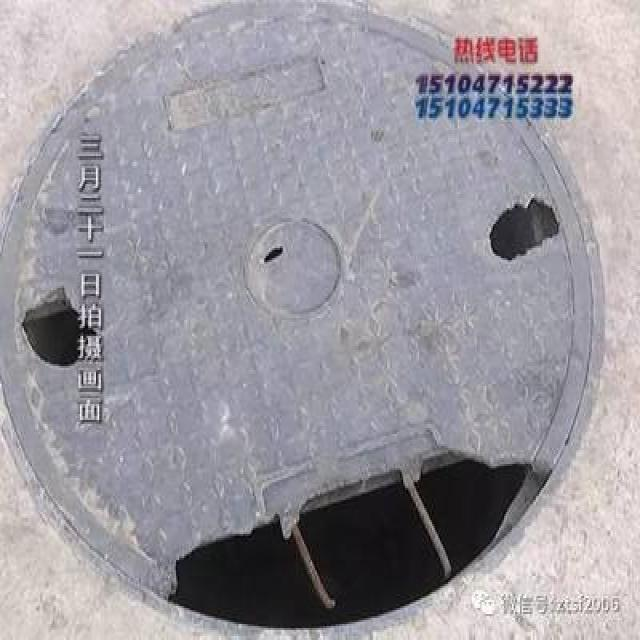manhole: (1, 16, 594, 628)
